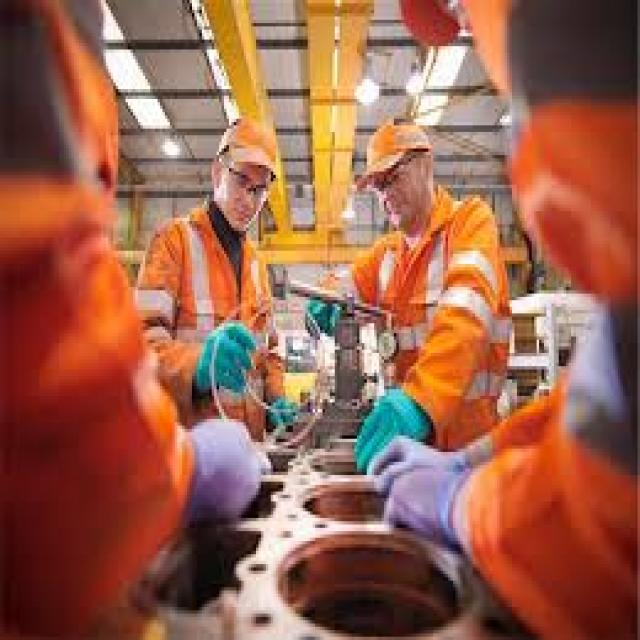Reflective-Jacket: (4, 0, 162, 577), (359, 192, 512, 432), (142, 208, 280, 396)
Safety-Helmet: (357, 109, 441, 191), (207, 109, 290, 191)
